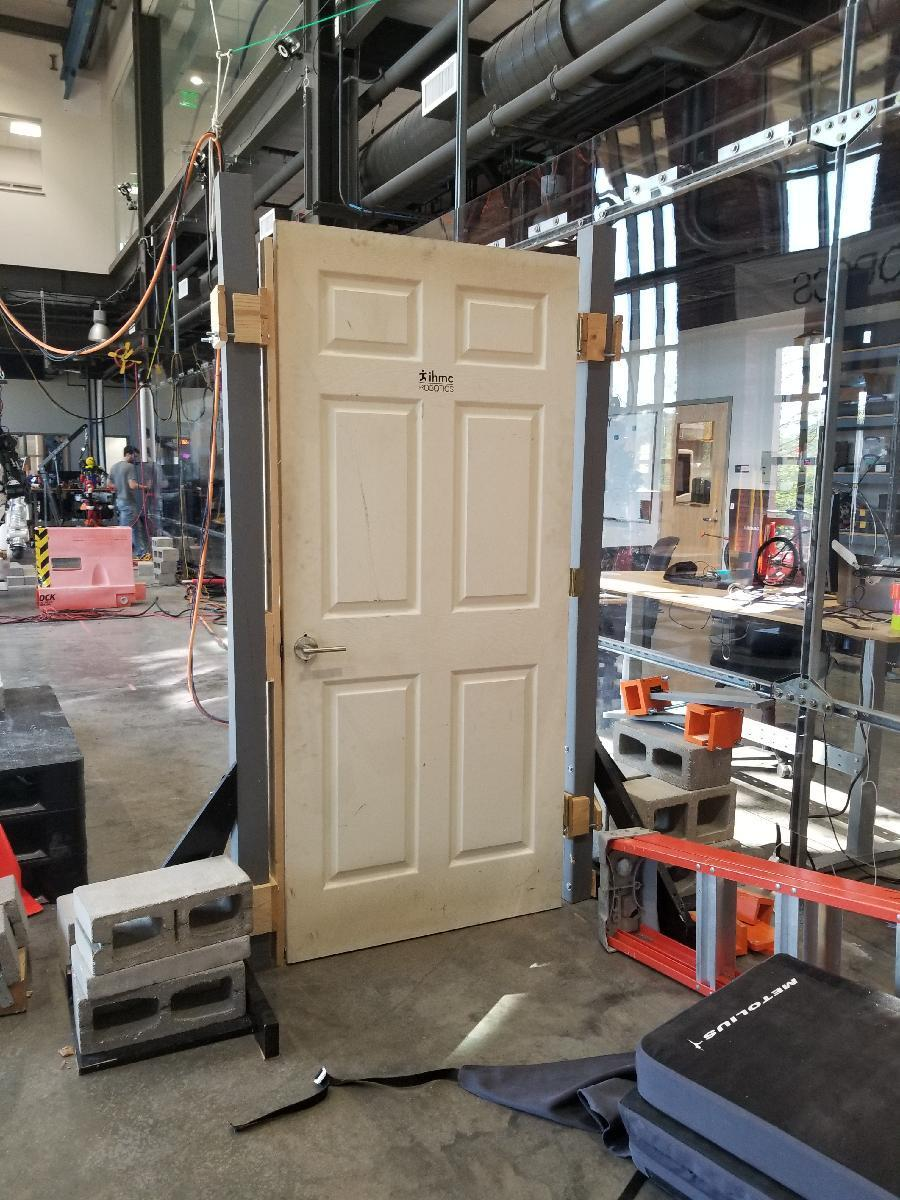door: (276, 210, 584, 944)
handle: (289, 628, 352, 677)
